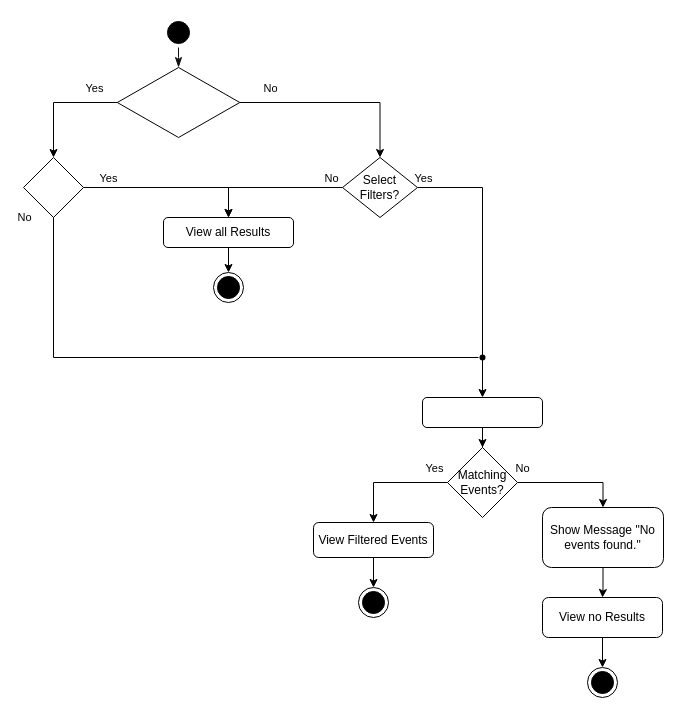
Some shapes in this 681 by 715 pixel diagram are drawn without their labels. The shapes that lost their labels are listed below. From the top down, each one's box as (x1, y1, x2, y2) in pixels, then its label:
(116, 66, 240, 138): Are there applied filters?
(22, 156, 84, 218): Clear Filters?
(422, 396, 542, 428): Apply Filters
